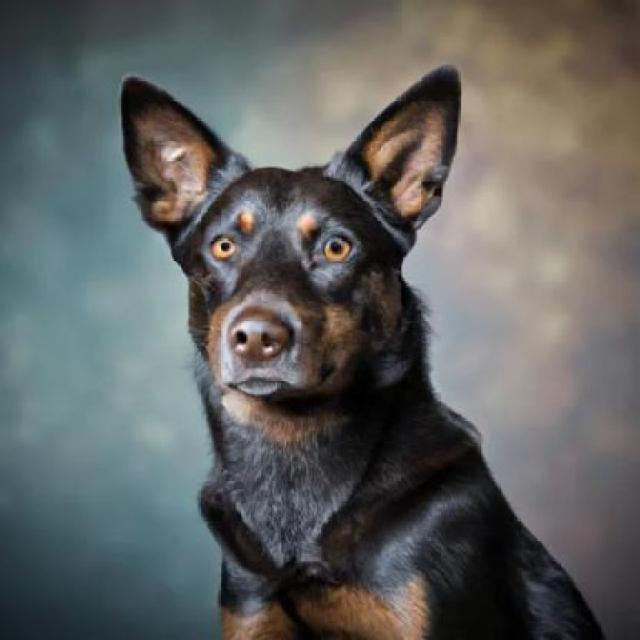animals: (113, 49, 572, 620)
